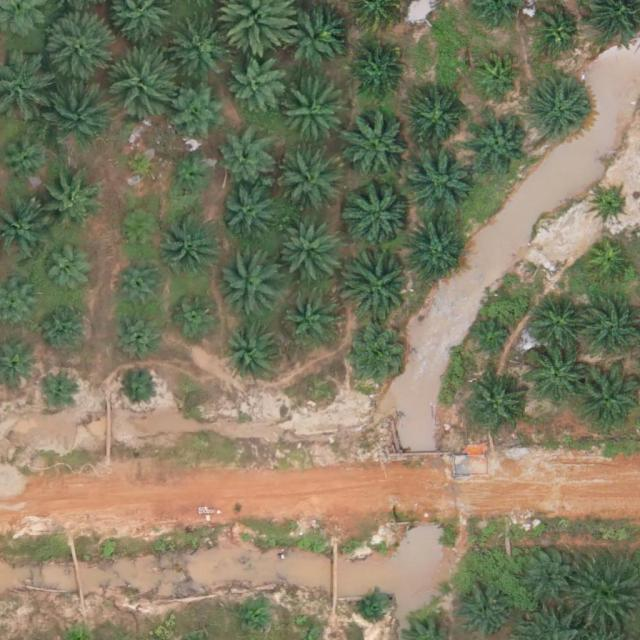Healthy: (42, 12, 113, 83), (404, 145, 475, 215), (342, 110, 413, 180), (345, 179, 415, 250), (344, 249, 414, 320), (42, 76, 112, 147), (106, 48, 176, 118), (527, 295, 590, 358), (167, 16, 230, 79), (516, 542, 578, 605), (524, 345, 587, 407), (470, 114, 532, 177), (404, 221, 466, 284), (466, 374, 528, 437), (346, 329, 408, 392), (282, 83, 344, 146), (279, 153, 341, 216), (276, 221, 338, 284), (220, 253, 283, 315), (169, 79, 231, 142), (39, 171, 101, 234), (163, 213, 225, 276), (529, 81, 591, 143), (281, 2, 343, 64), (220, 187, 275, 243), (411, 94, 466, 149), (287, 294, 342, 349), (219, 133, 274, 188), (115, 259, 170, 314), (109, 310, 164, 365), (350, 43, 404, 98), (226, 325, 280, 380), (230, 58, 284, 113)
Small: (42, 248, 89, 296), (44, 303, 91, 351), (168, 153, 215, 201), (474, 53, 521, 101), (172, 292, 219, 339), (533, 7, 580, 54), (470, 319, 517, 366), (117, 208, 164, 255), (120, 368, 159, 408), (591, 187, 630, 226), (122, 146, 161, 185), (37, 371, 76, 410), (357, 590, 388, 621), (239, 601, 270, 632)
Yellow: (586, 241, 633, 288)
